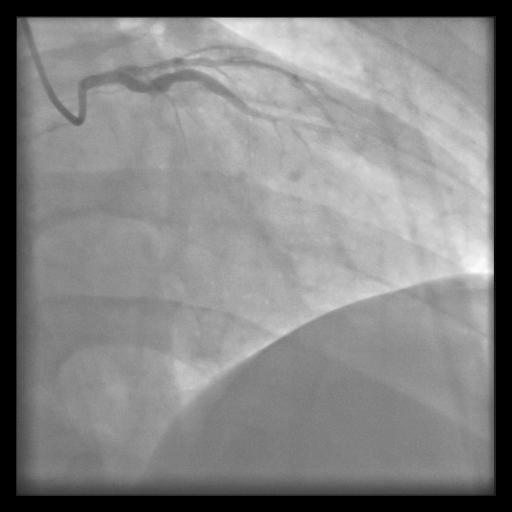Stenosis: (138, 78, 162, 96)
